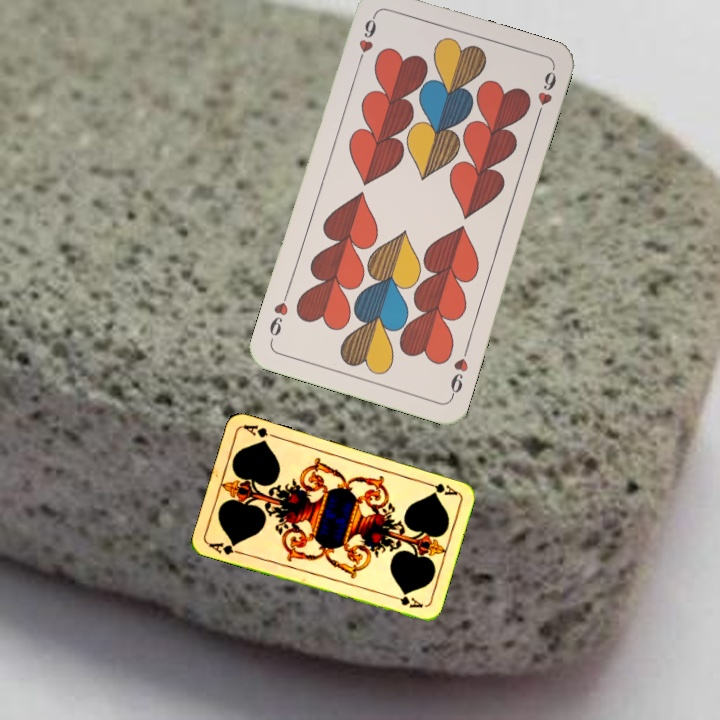GA: (421, 478, 460, 498), (205, 538, 245, 557)
H9: (446, 343, 472, 401), (353, 10, 379, 68)
